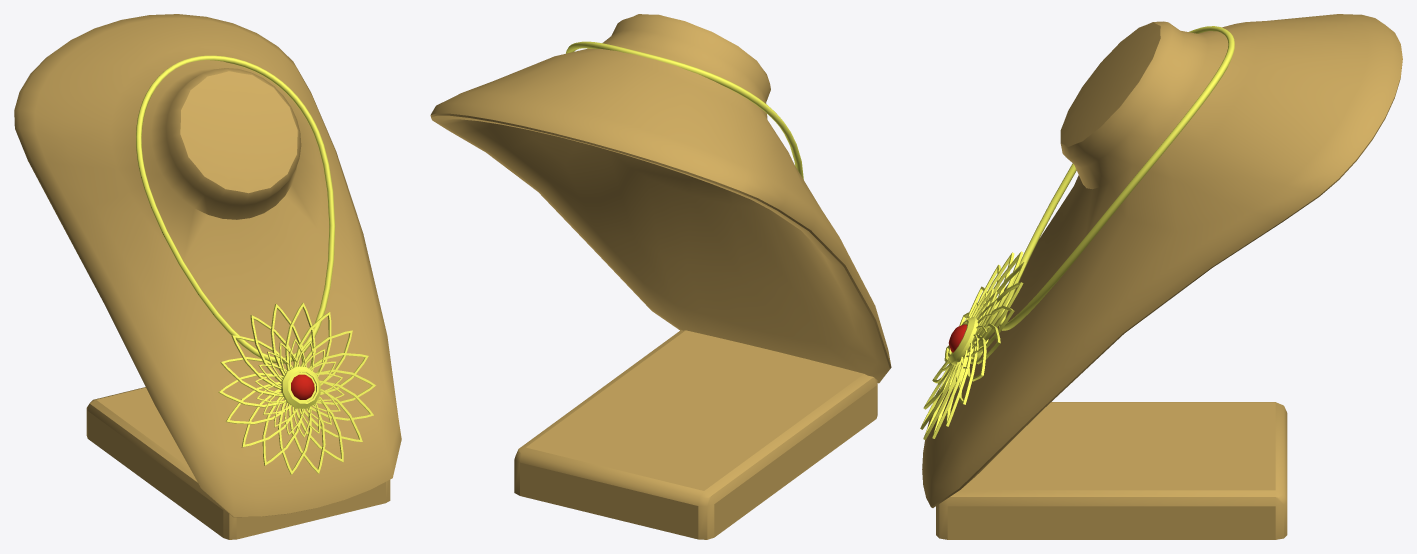
The model's file is Necklace_1.fbx.
3 renders of one model, left to right at view 1: azimuth 30°, elevation 25°; view 2: azimuth 150°, elevation 25°; view 3: azimuth 270°, elevation 25°, orthographic. The views are drawn at different scales.
Parts seen in each view (by area): view 1: SM_Stand_Necklace, SM_Cullon_14, SM_Necklace_4; view 2: SM_Stand_Necklace, SM_Necklace_4; view 3: SM_Stand_Necklace, SM_Cullon_14, SM_Necklace_4.
Boxes of the visible parts, box(x1,y1,x2,y2) form: SM_Stand_Necklace: box(14, 14, 401, 539); SM_Cullon_14: box(218, 302, 375, 474); SM_Necklace_4: box(136, 55, 335, 363); SM_Stand_Necklace: box(430, 14, 891, 539); SM_Necklace_4: box(566, 41, 803, 179); SM_Stand_Necklace: box(922, 14, 1402, 539); SM_Cullon_14: box(920, 251, 1026, 439); SM_Necklace_4: box(998, 26, 1234, 330).
Bounding box in the file's own units: 22.51 × 29.29 × 27.9.
